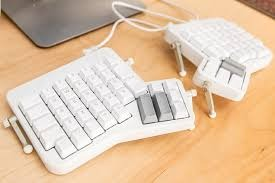keyboard: (10, 87, 202, 180)
